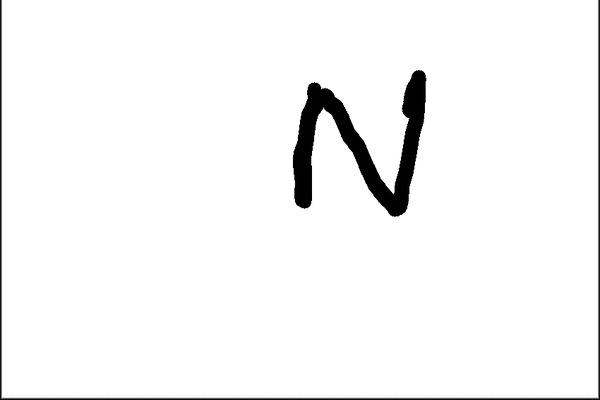N: (284, 65, 434, 220)
